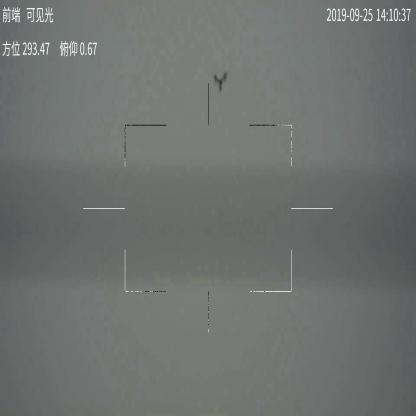uav: (212, 70, 228, 93)
